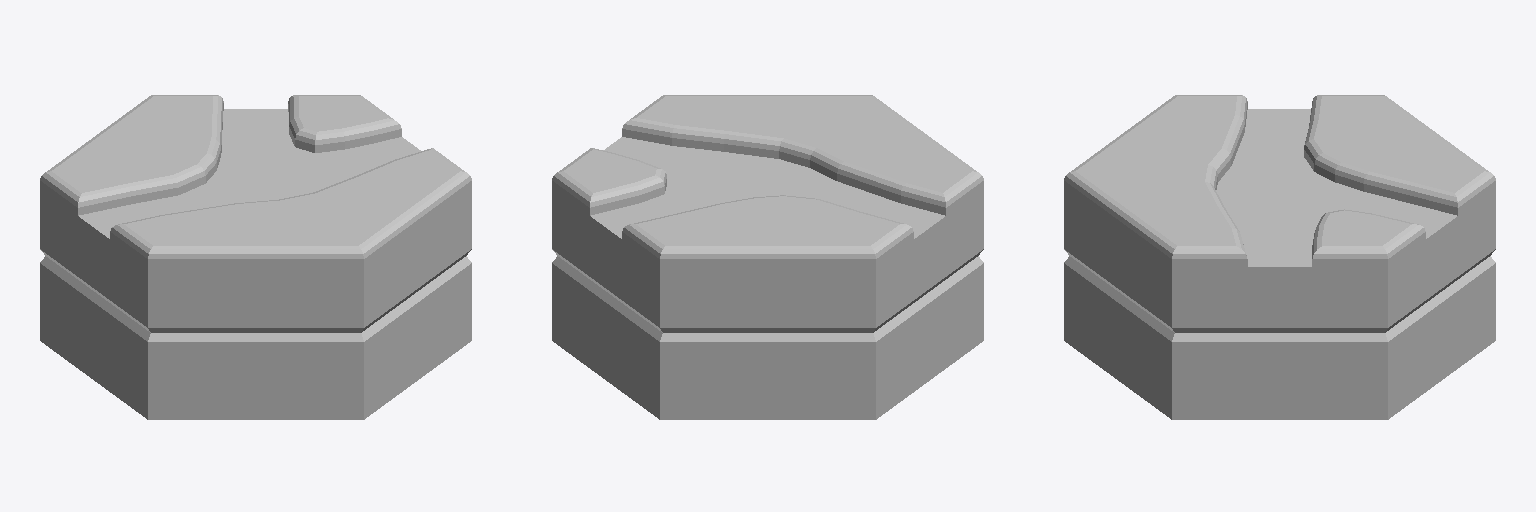
File: hex_sand_roadF_detail.obj
3 renders of one model, left to right at view 1: azimuth 30°, elevation 25°; view 2: azimuth 150°, elevation 25°; view 3: azimuth 270°, elevation 25°, orthographic.
Visible parts, largest first — view 1: hex_sand_roadF_detail_Cylinder.617; view 2: hex_sand_roadF_detail_Cylinder.617; view 3: hex_sand_roadF_detail_Cylinder.617.
Part boxes in pixels (left/top/right/bottom): hex_sand_roadF_detail_Cylinder.617: left=40, top=95, right=471, bottom=419; hex_sand_roadF_detail_Cylinder.617: left=552, top=95, right=983, bottom=419; hex_sand_roadF_detail_Cylinder.617: left=1064, top=95, right=1495, bottom=419.
Bounding box in the file's own units: 2 × 1 × 2.31.